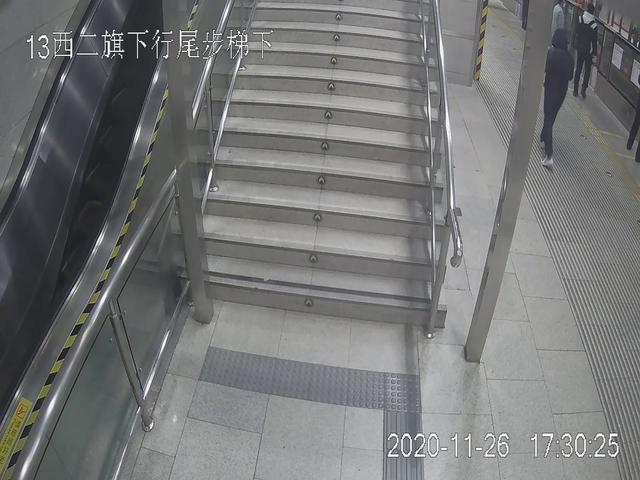person: (534, 30, 574, 162), (571, 1, 601, 99)
